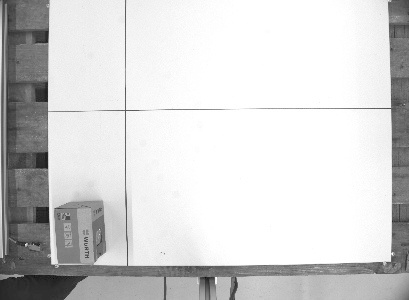b4: (50, 199, 109, 266)
